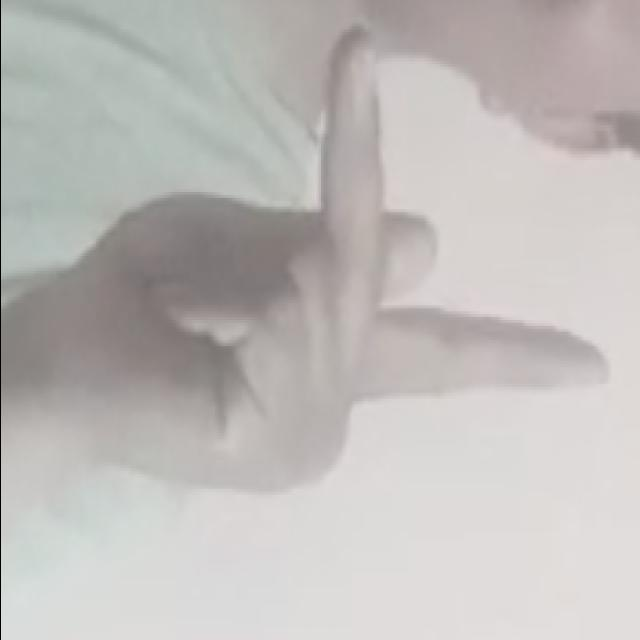P: (10, 17, 621, 513)
